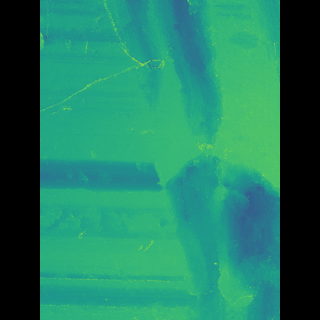Loch: (116, 0, 249, 320)
